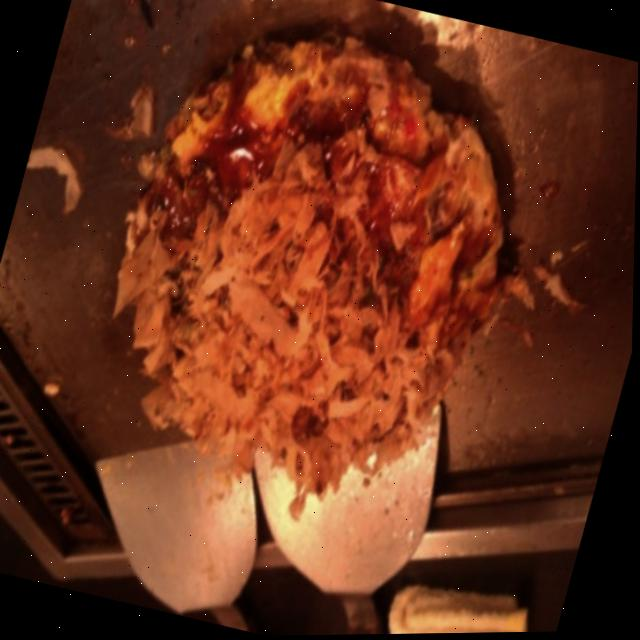蛋糕甜品: (67, 0, 555, 515)
